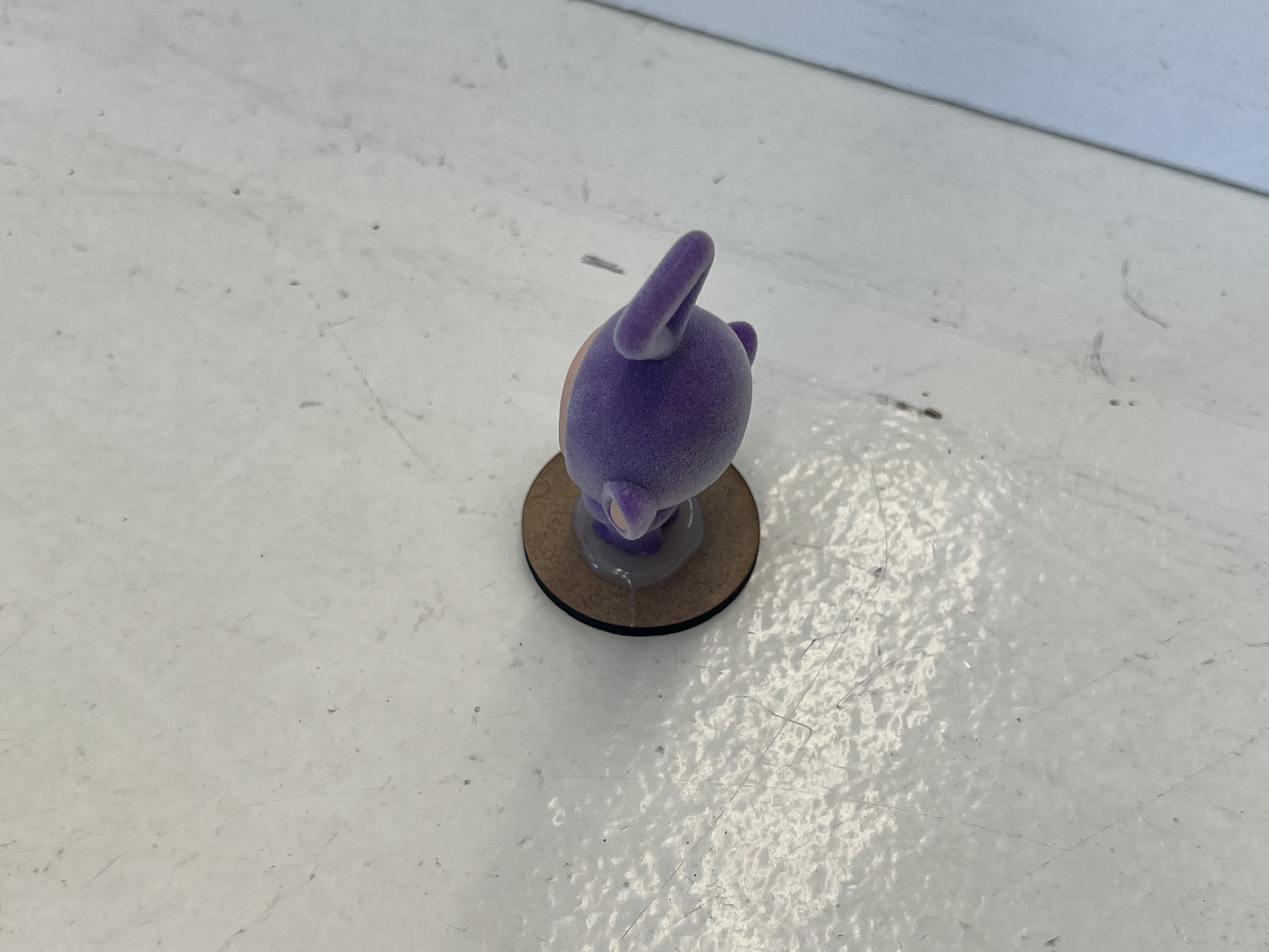teletubby: (558, 231, 757, 556)
